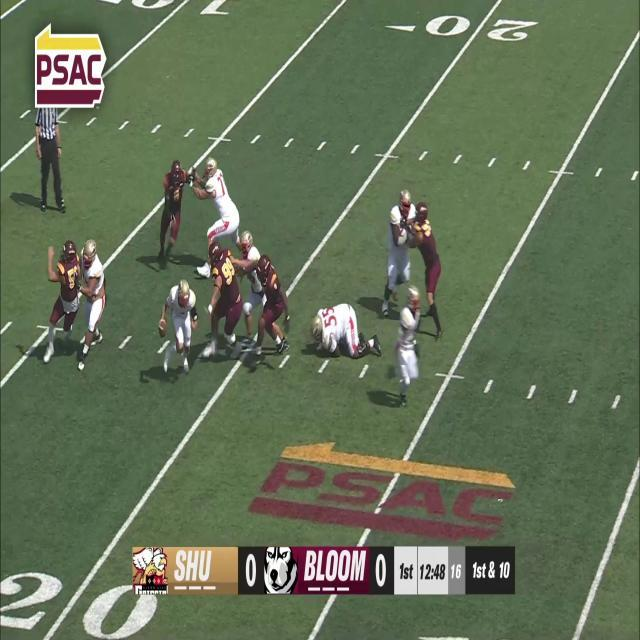football: (157, 320, 167, 338)
